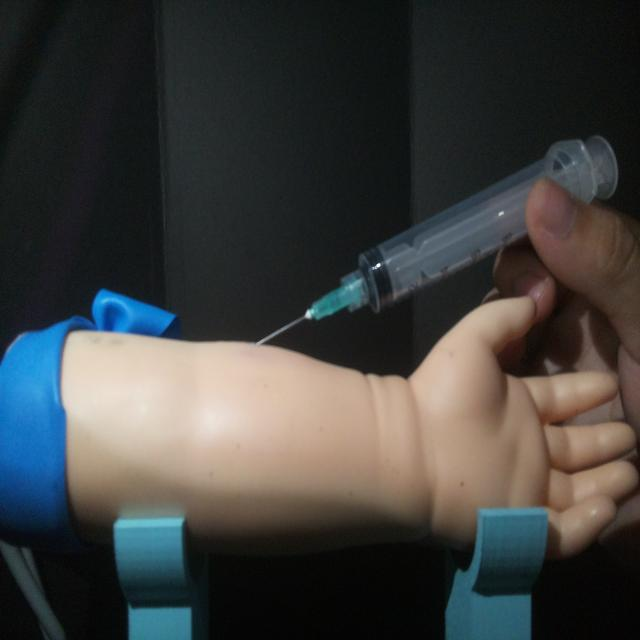26deg: (249, 129, 621, 350)
